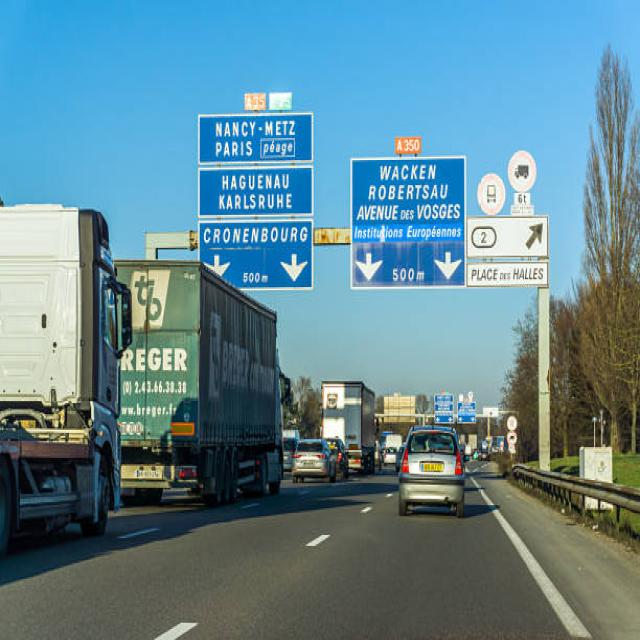16-Wheelers: (0, 201, 132, 557), (113, 257, 290, 505), (320, 380, 375, 475)
Car: (398, 425, 466, 516), (290, 438, 336, 483)
Traffic-sign: (339, 140, 470, 320)
